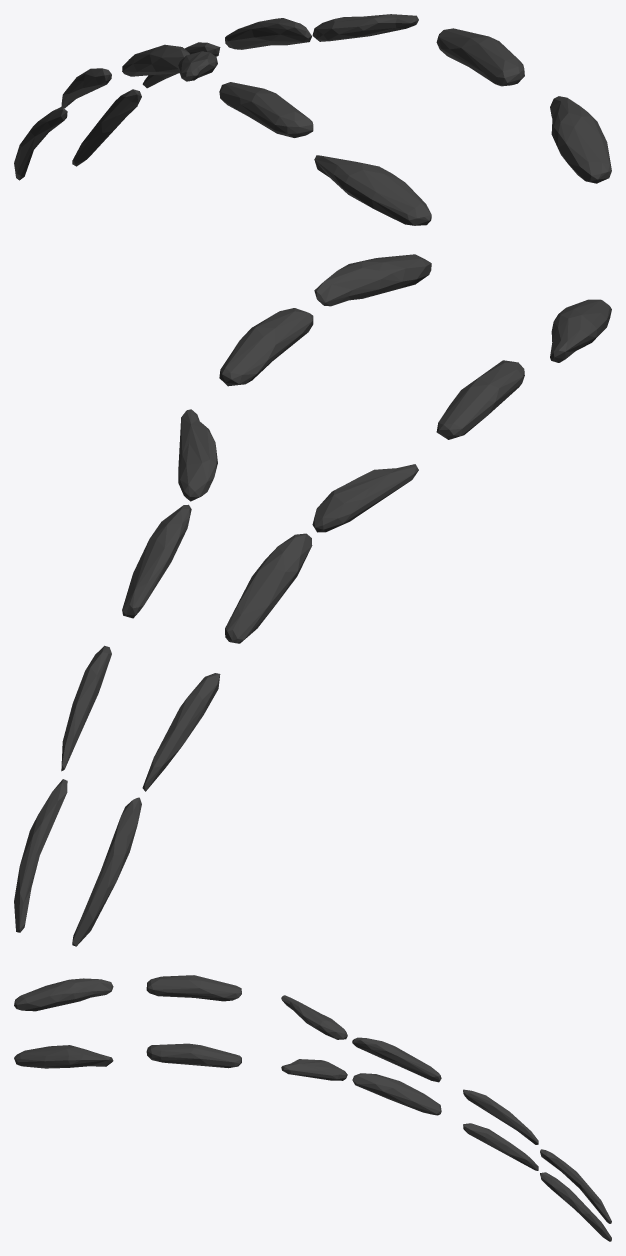
File: m_intertranverse_caudal.glb
The picture shows the model from 3 angles, top to bottom: view 1: azimuth 30°, elevation 25°; view 2: azimuth 150°, elevation 25°; view 3: azimuth 270°, elevation 25°; orthographic projection. The views are drawn at different scales.
Visible parts, largest first — view 1: m_intertranverse_caudal; view 2: m_intertranverse_caudal; view 3: m_intertranverse_caudal.
Boxes of the visible parts, x1,y1,x2,y2 form: m_intertranverse_caudal: (14,14,611,225); m_intertranverse_caudal: (14,254,611,946); m_intertranverse_caudal: (14,975,611,1241).
Bounding box in the file's own units: 0.00134 × 0.00173 × 0.00424.
1 material, 1 textured.
